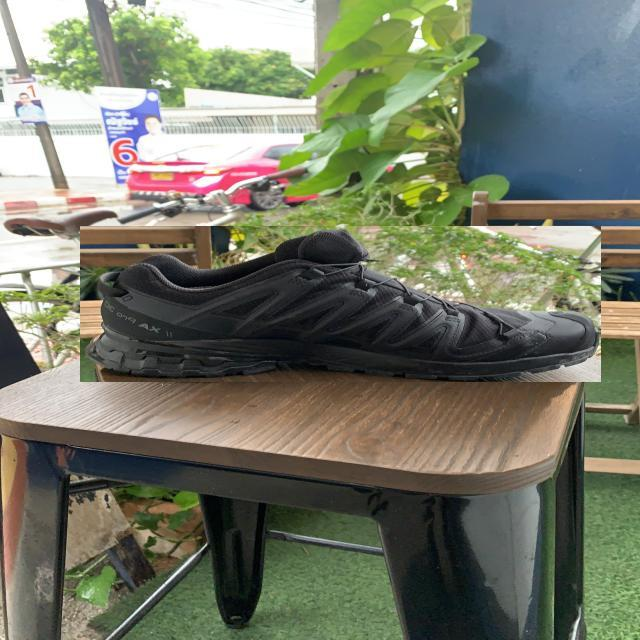shoe: (80, 226, 601, 382)
